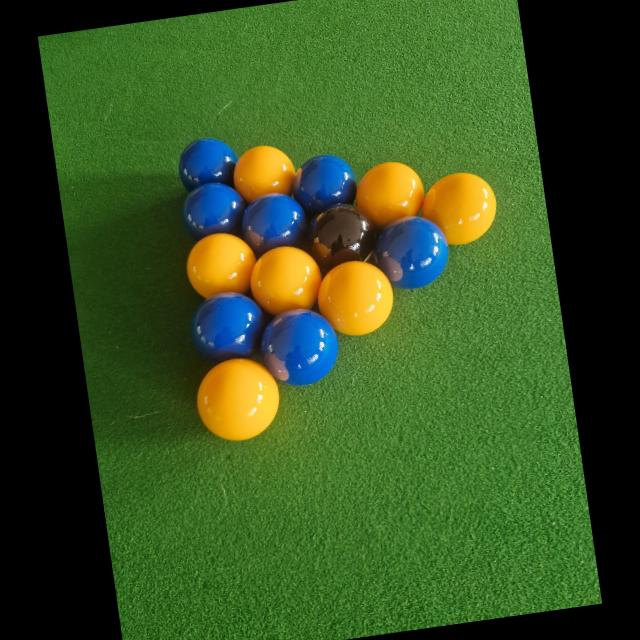Ball: (189, 352, 285, 447), (254, 304, 343, 389), (312, 257, 398, 341), (370, 212, 452, 295), (418, 168, 500, 250), (186, 288, 270, 364), (246, 242, 325, 320), (182, 228, 260, 306), (303, 201, 383, 277), (350, 157, 428, 231), (228, 140, 300, 209), (238, 188, 312, 255), (287, 150, 359, 218), (179, 180, 249, 242), (175, 134, 242, 196)
